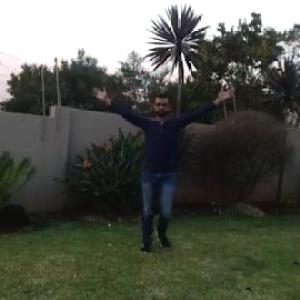takeoff: (89, 86, 254, 256)
